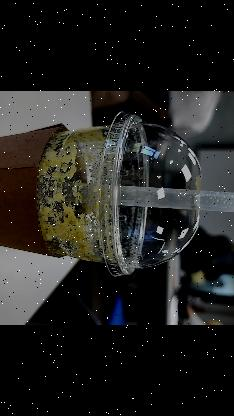Others: (0, 112, 200, 280), (97, 112, 200, 276), (61, 180, 234, 215)
